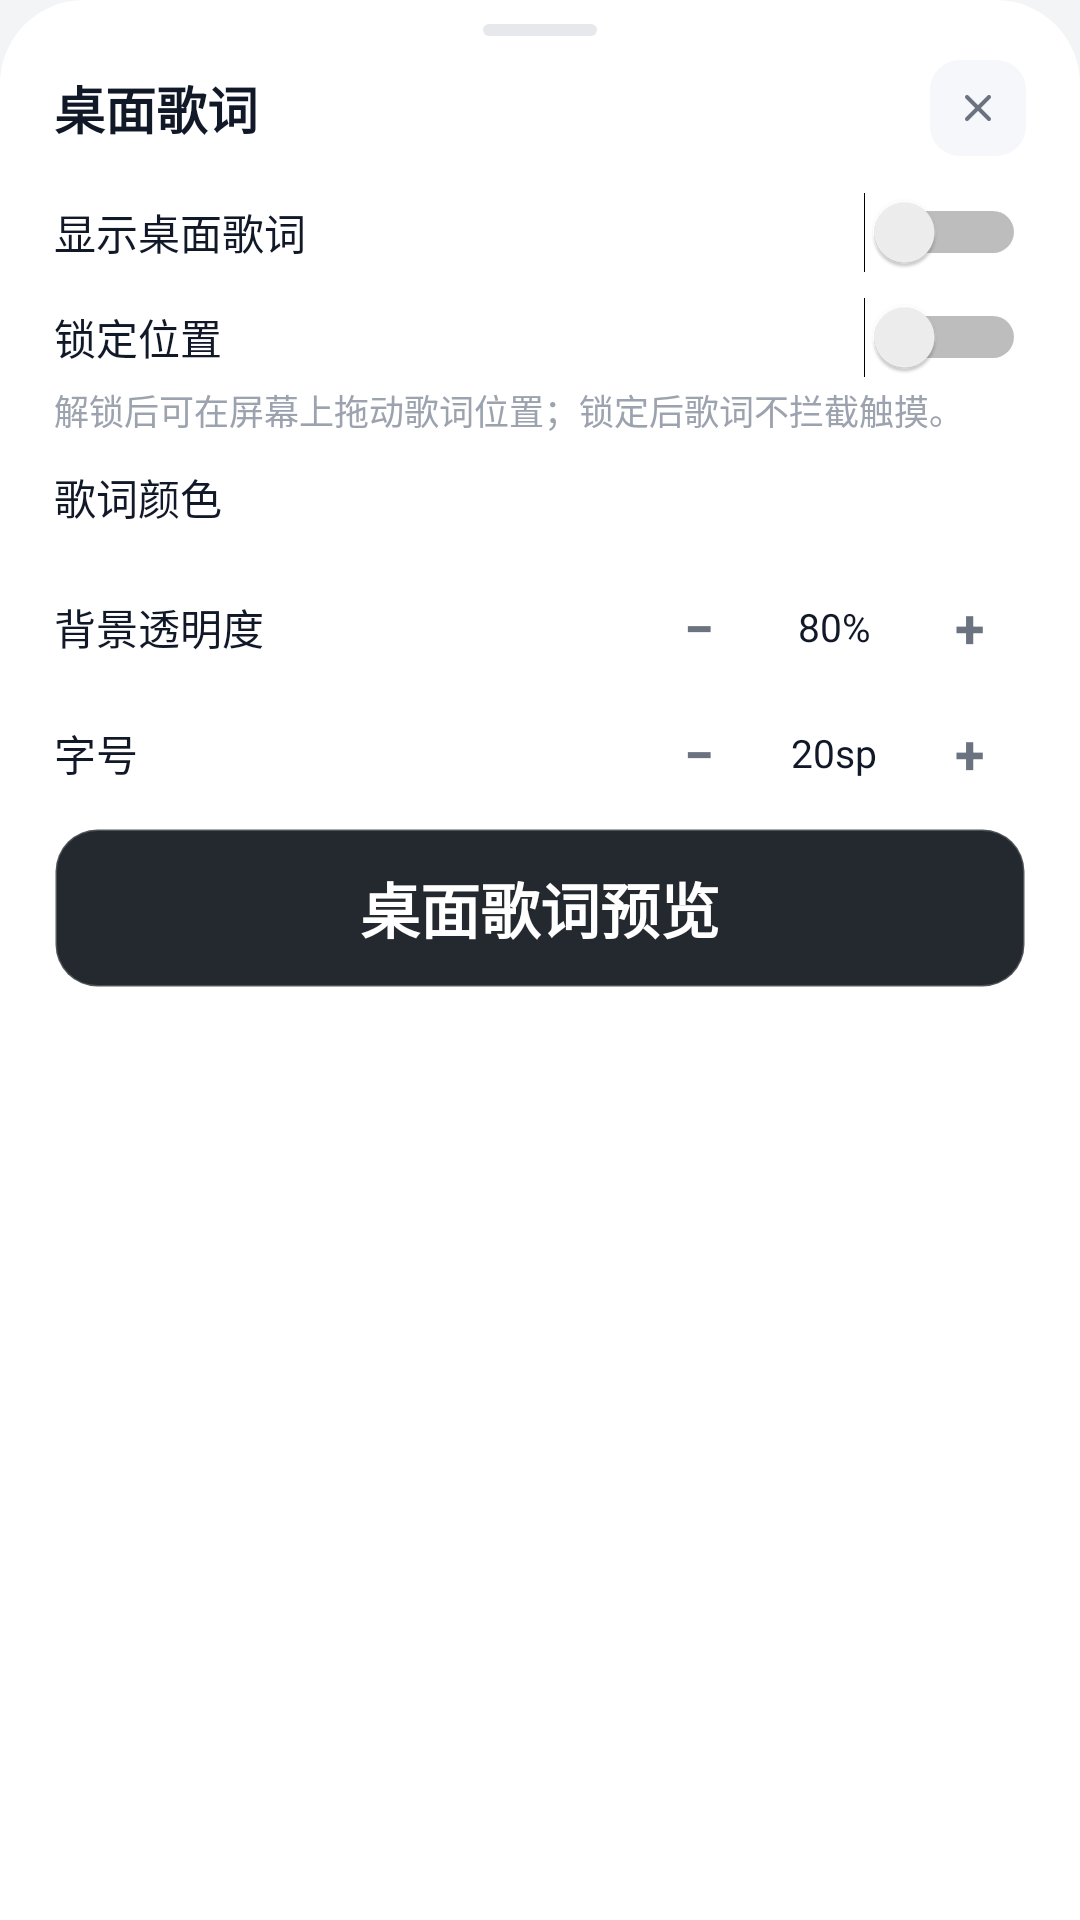

Icon bounding boxes for this 1080px×1920px phone screenshot, format (x1=x1, y1=y1, x2=x2, y2=y2):
关闭: (x1=930, y1=60, x2=1026, y2=156)
